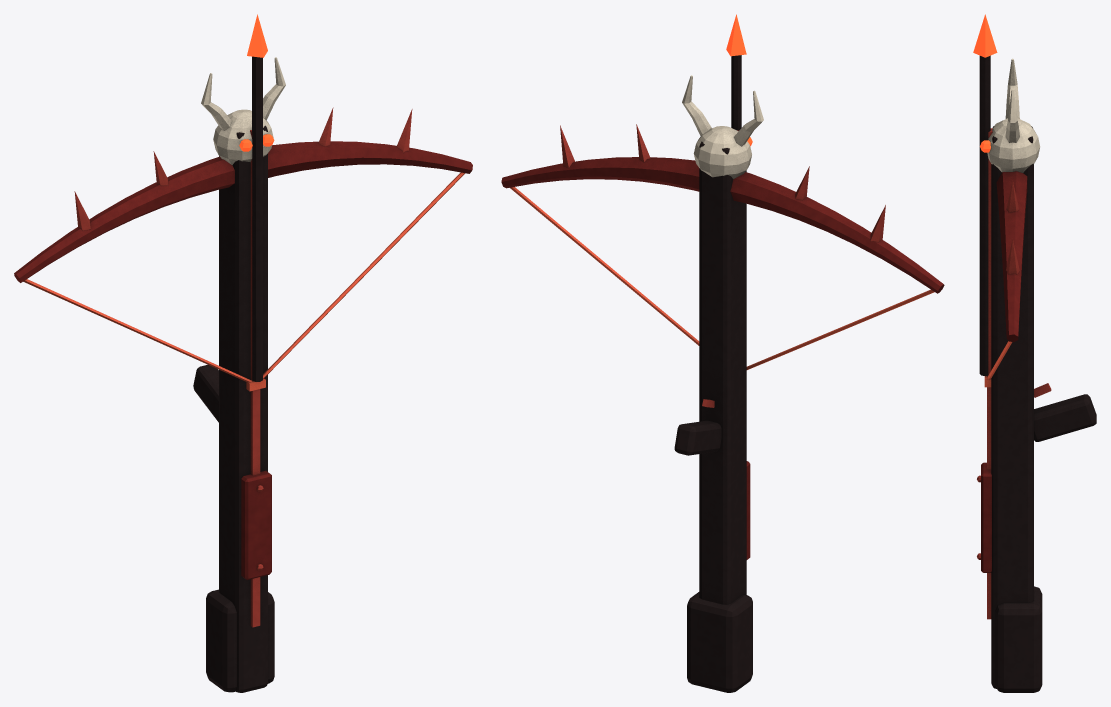
The model's file is 07_hell_ranged.fbx.
The picture shows the model from 3 angles, left to right: view 1: azimuth 30°, elevation 25°; view 2: azimuth 150°, elevation 25°; view 3: azimuth 270°, elevation 25°; orthographic projection. The views are drawn at different scales.
Visible parts, largest first — view 1: Weapon; view 2: Weapon; view 3: Weapon.
Part boxes in pixels (left/top/right/bottom): Weapon: left=14, top=14, right=472, bottom=692; Weapon: left=501, top=14, right=944, bottom=692; Weapon: left=973, top=14, right=1096, bottom=692.
Size of the model in its own units: 98.11 by 140 by 23.41.
Materials: 2 (1 with a texture image).
